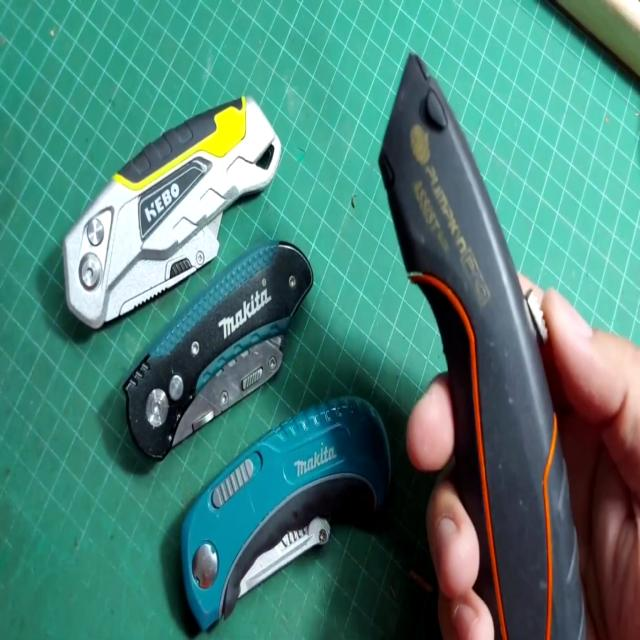cutter: (367, 36, 640, 640), (62, 205, 335, 516), (53, 73, 297, 349), (159, 380, 399, 640)
